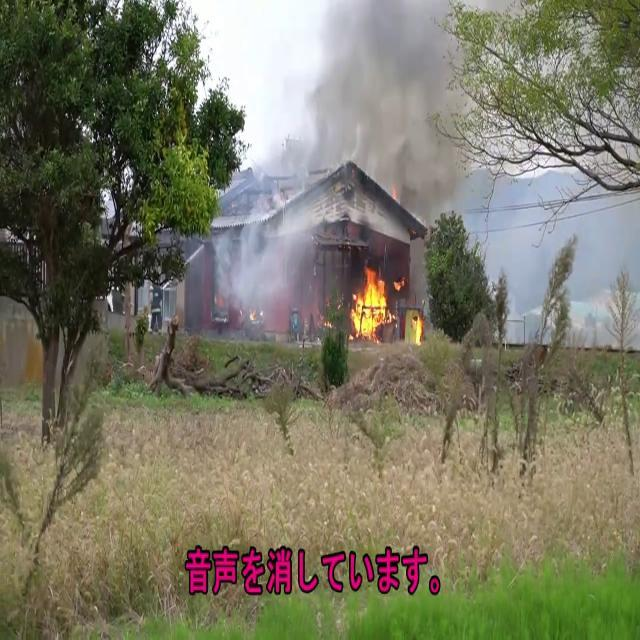Fire: (345, 260, 399, 340), (402, 302, 426, 348)
Smoke: (263, 0, 473, 216), (202, 60, 331, 332)
